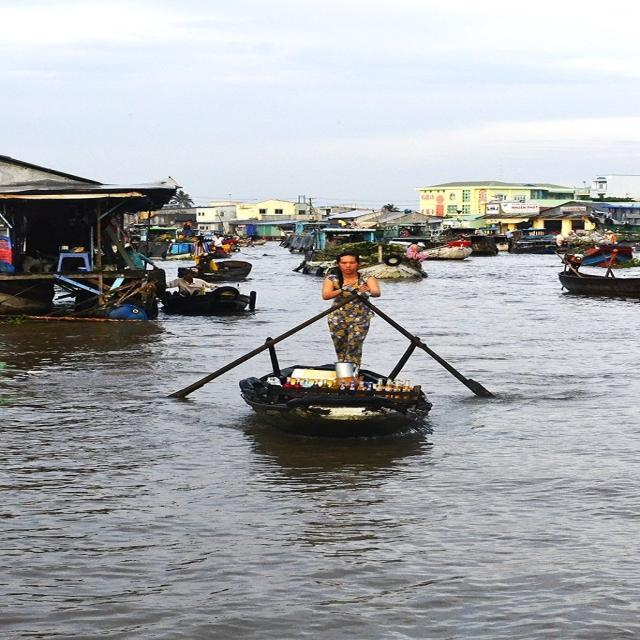boat: (234, 356, 438, 432), (304, 226, 422, 282), (166, 280, 264, 326), (184, 248, 249, 284)
